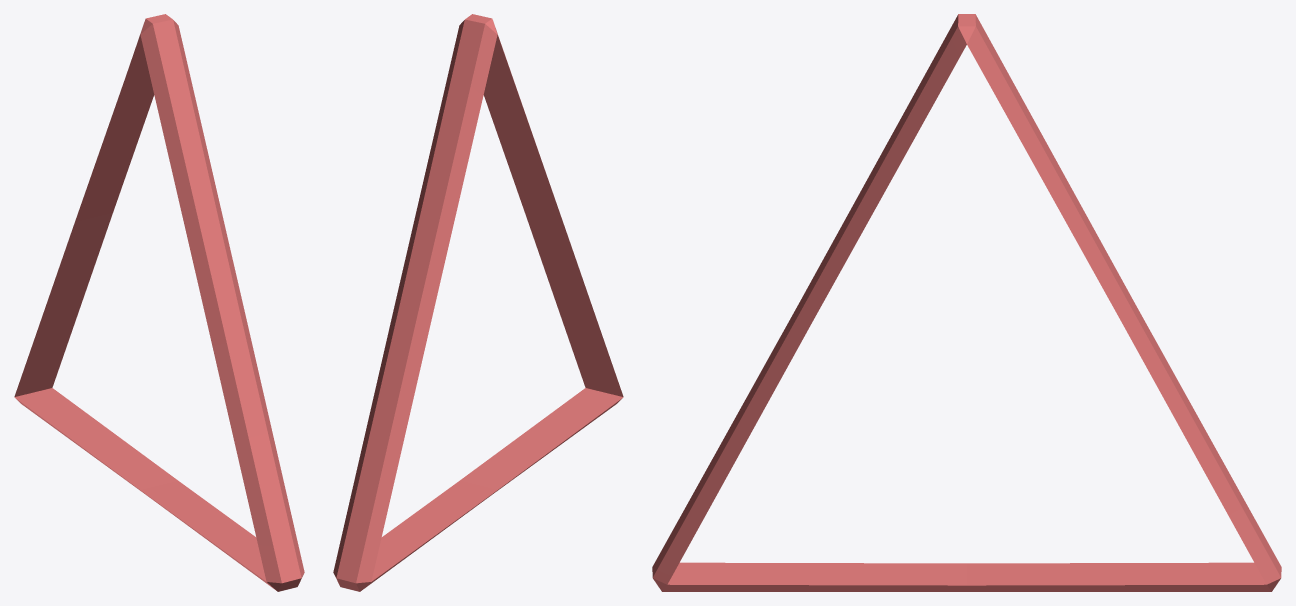
Rendered from p_TriangleRing.fbx.
3 views of the same model, side by side, from view 1: azimuth 30°, elevation 25°; view 2: azimuth 150°, elevation 25°; view 3: azimuth 270°, elevation 25° (orthographic). The views are drawn at different scales.
Parts seen in each view (by area): view 1: p_TriangleRing; view 2: p_TriangleRing; view 3: p_TriangleRing.
Part boxes in pixels (x1,y1,x2,y2): p_TriangleRing: (14, 14, 304, 591); p_TriangleRing: (333, 14, 623, 591); p_TriangleRing: (652, 14, 1281, 591).
Size of the model in its own units: 0.1848 by 2.21 by 2.22.
